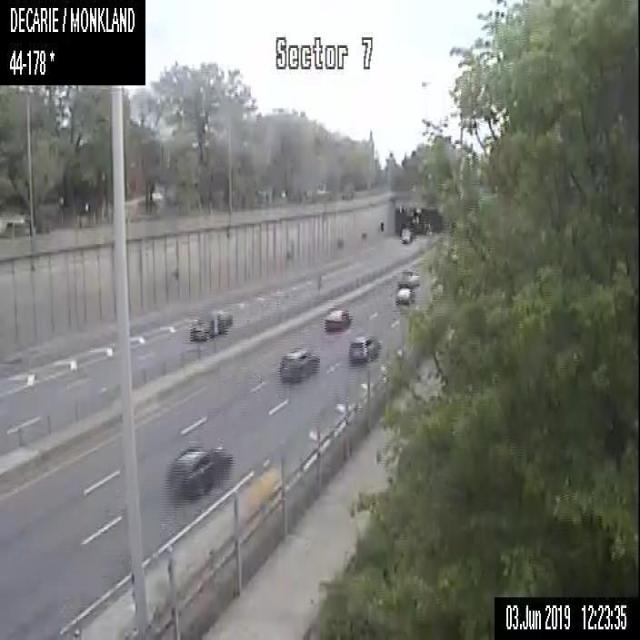vehicle: (166, 443, 232, 500), (187, 311, 232, 340), (278, 348, 317, 381), (347, 332, 378, 364), (324, 308, 350, 331), (394, 284, 414, 304), (398, 268, 418, 286), (398, 226, 410, 242)
